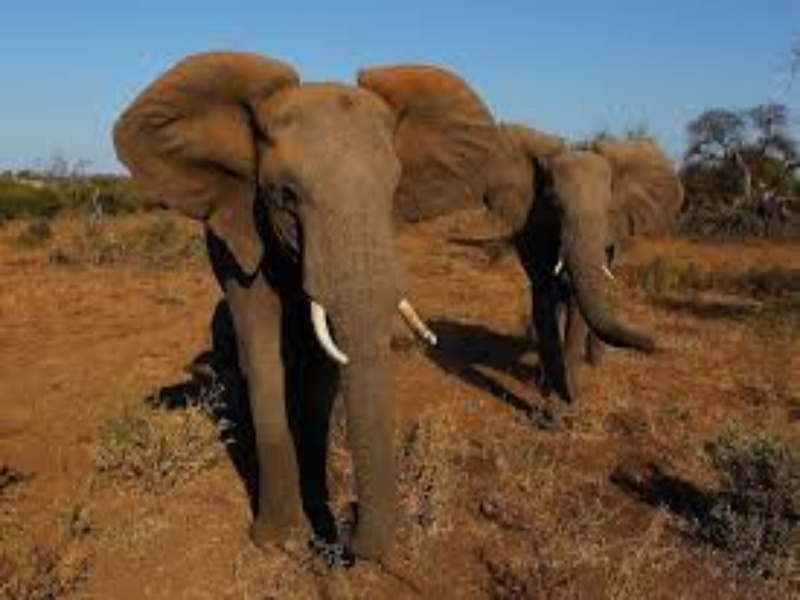elephant: (75, 20, 554, 578)
